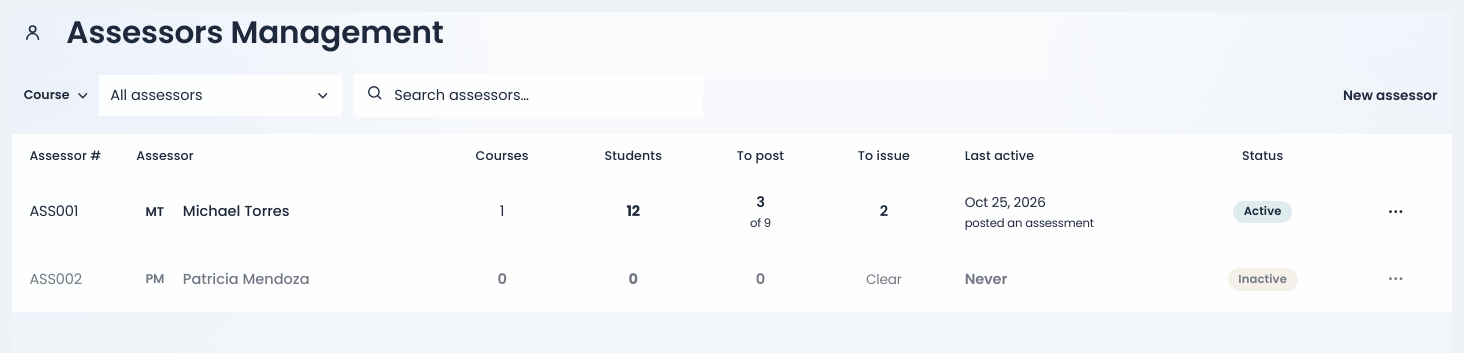
AssessorsManagement — the students-list interface › narrows by course before searching
Step 1. Click the dropdown named "Filter assessors by course" → (220, 95), box [98,75,342,116]
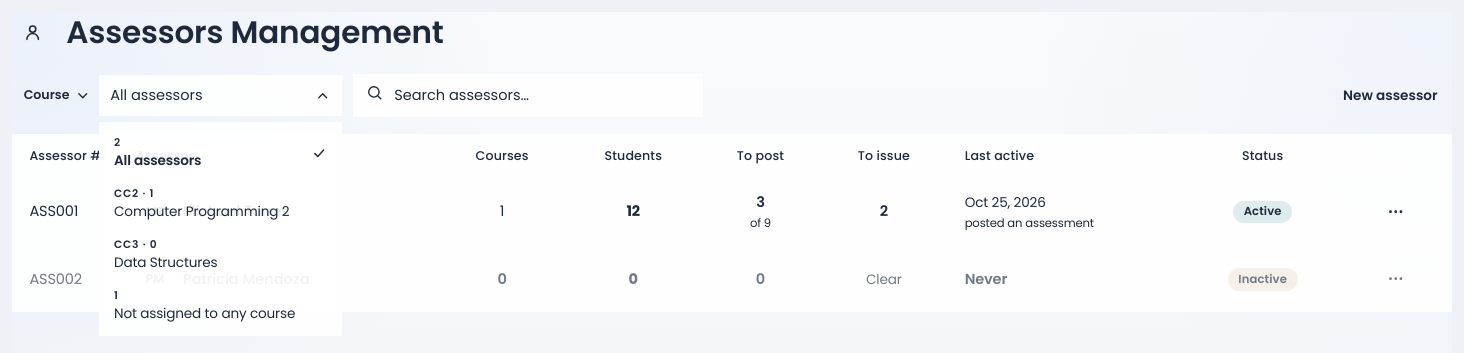
The options select on mouseDown, not click.
Step 2. Press the mouse on the text "Not assigned to any course" → (220, 314), box [114,304,326,323]
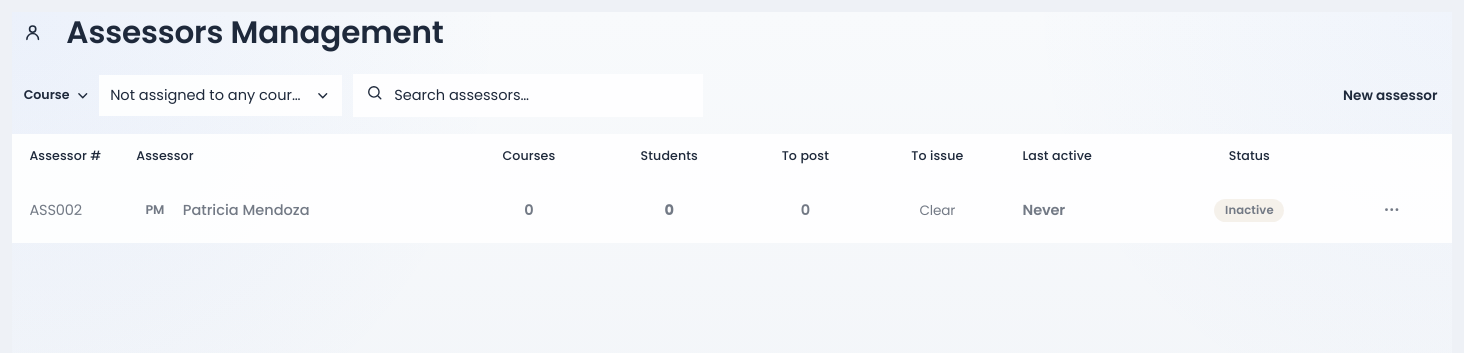
Expected: the button "Patricia Mendoza" is shown, [183,200,310,221]
Expected: the button "Michael Torres" is gone
